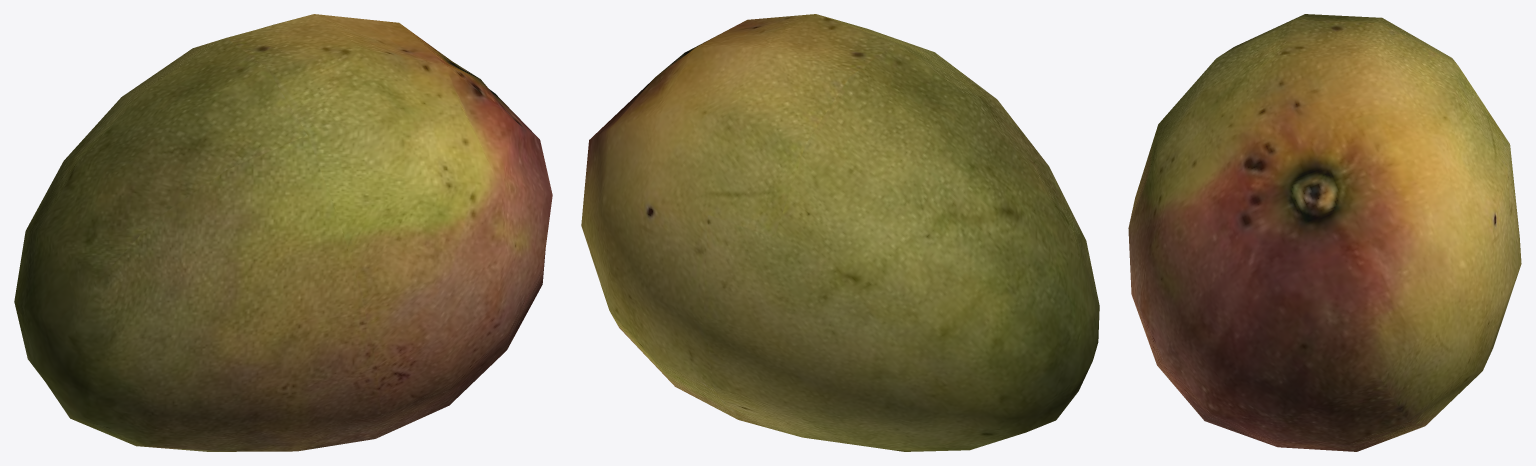
Rendered from A114_Mango_low.fbx.
3 renders of one model, left to right at view 1: azimuth 30°, elevation 25°; view 2: azimuth 150°, elevation 25°; view 3: azimuth 270°, elevation 25°, orthographic.
Visible parts, largest first — view 1: A114_Mango_low; view 2: A114_Mango_low; view 3: A114_Mango_low.
Boxes of the visible parts, left/top/right/bottom form: A114_Mango_low: left=14, top=14, right=552, bottom=451; A114_Mango_low: left=581, top=14, right=1099, bottom=451; A114_Mango_low: left=1128, top=14, right=1521, bottom=451.
Bounding box in the file's own units: 13.59 × 9.52 × 10.23.
1 material, 1 textured.
